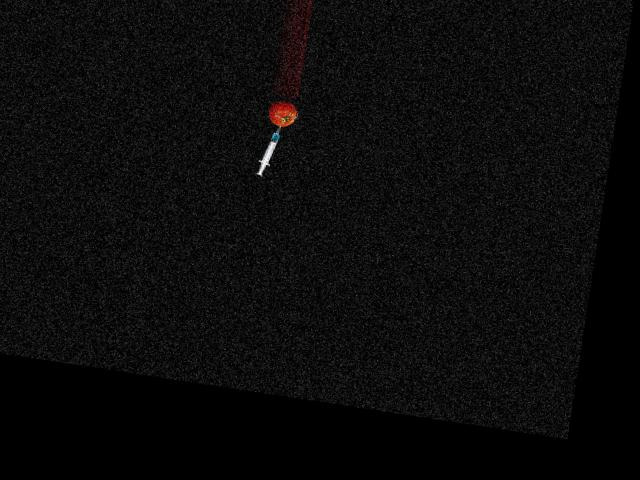tomato: (266, 99, 298, 128)
